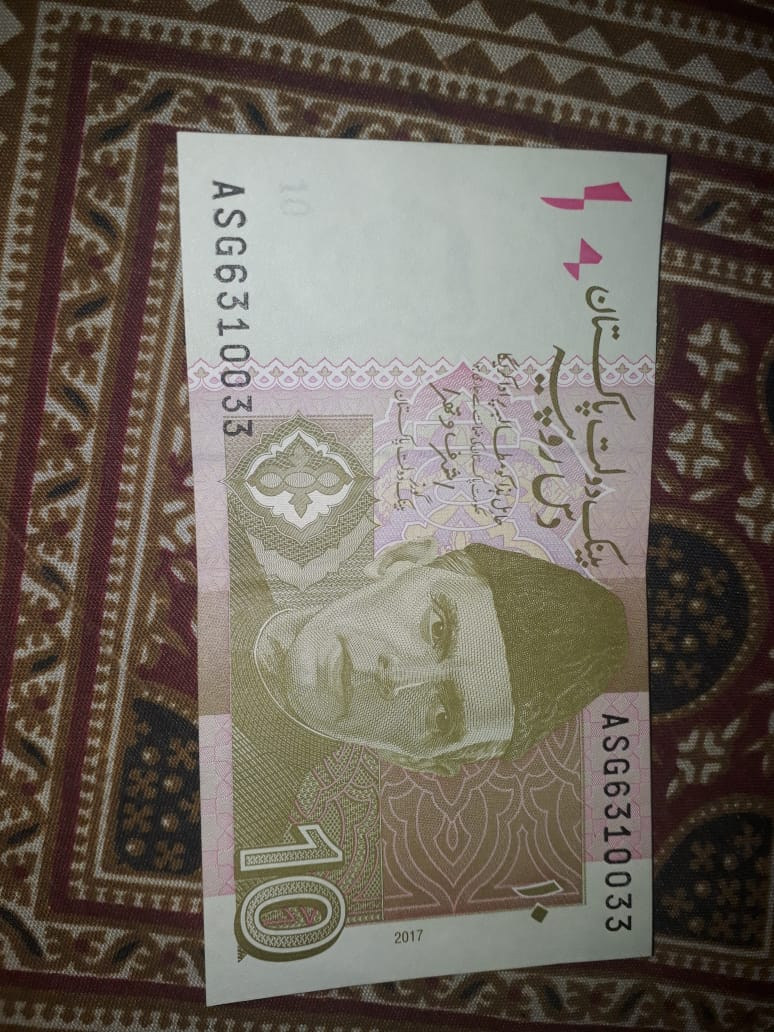10 rupee: (170, 136, 670, 1006)
